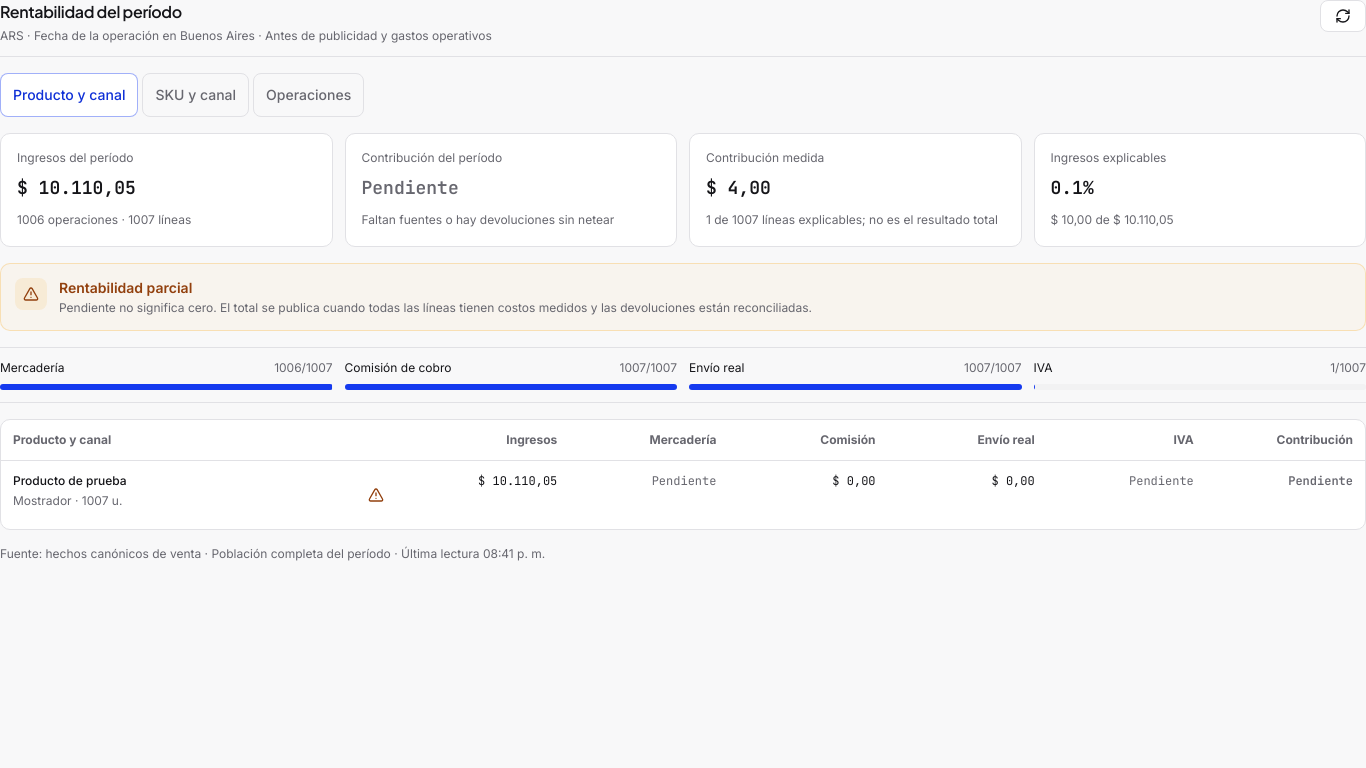
Test: Profit Foundation: period authority and recovery › keeps pending reasons in an accessible detail without expanding every row
The width and height of the screenshot is (1366, 768).
Expected: the dialog "Fuentes pendientes" is not shown
Click the button named "Ver fuentes pendientes de Producto de prueba" at (376, 494), box [354, 472, 398, 516]
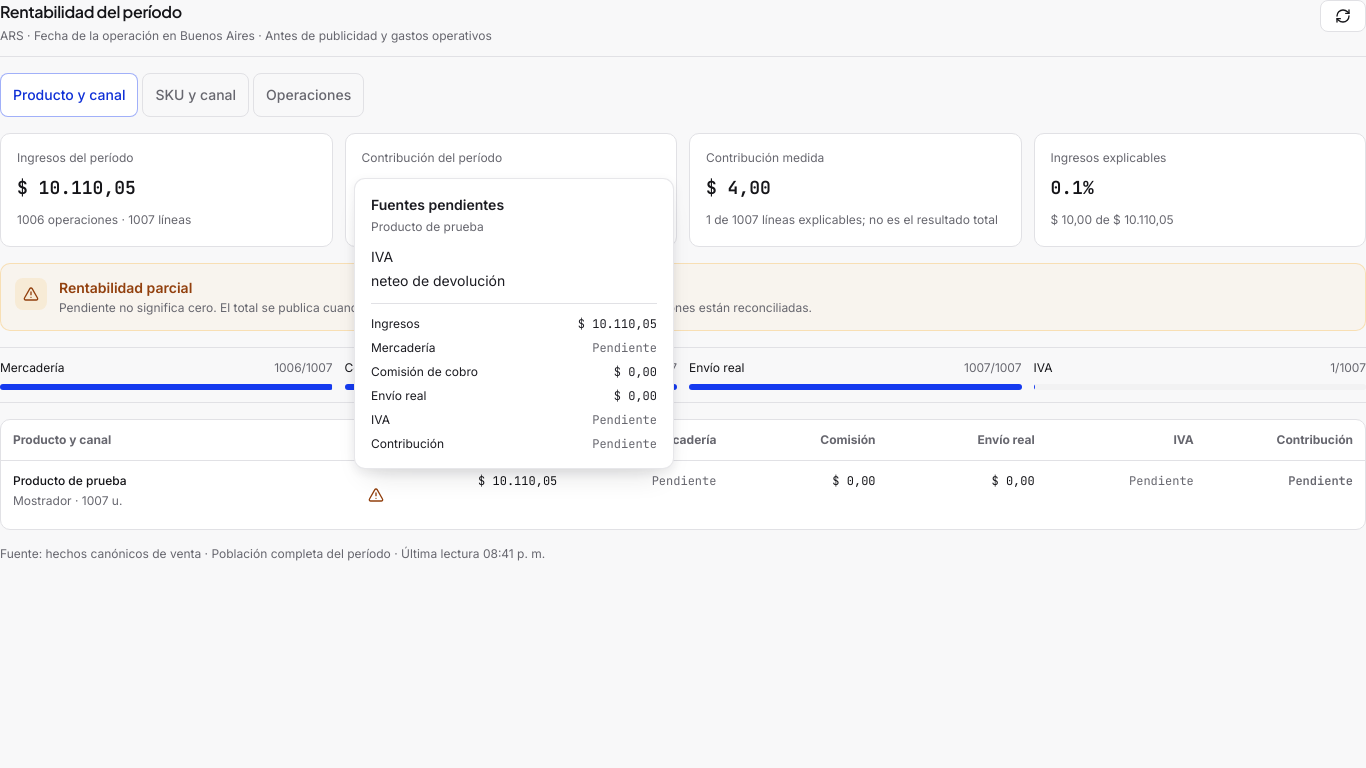
Result: the dialog "Fuentes pendientes" is shown at [354, 178, 674, 469]
Result: the list item "IVA" is shown at [371, 248, 393, 265]
Result: the list item "neteo de devolución" is shown at [371, 272, 505, 289]
